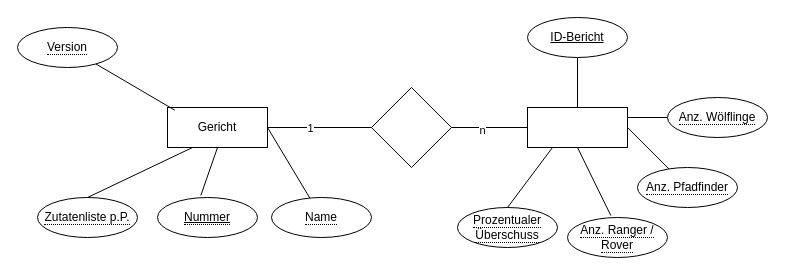
Some shapes in this 785 by 275 pixel diagram are drawn without their labels. The shapes that lost their labels are listed below. From the top down, each one's box as (x1, y1, x2, y2) in pixels, then its label:
(370, 86, 452, 168): dokumentiert
(526, 106, 628, 148): Bericht
